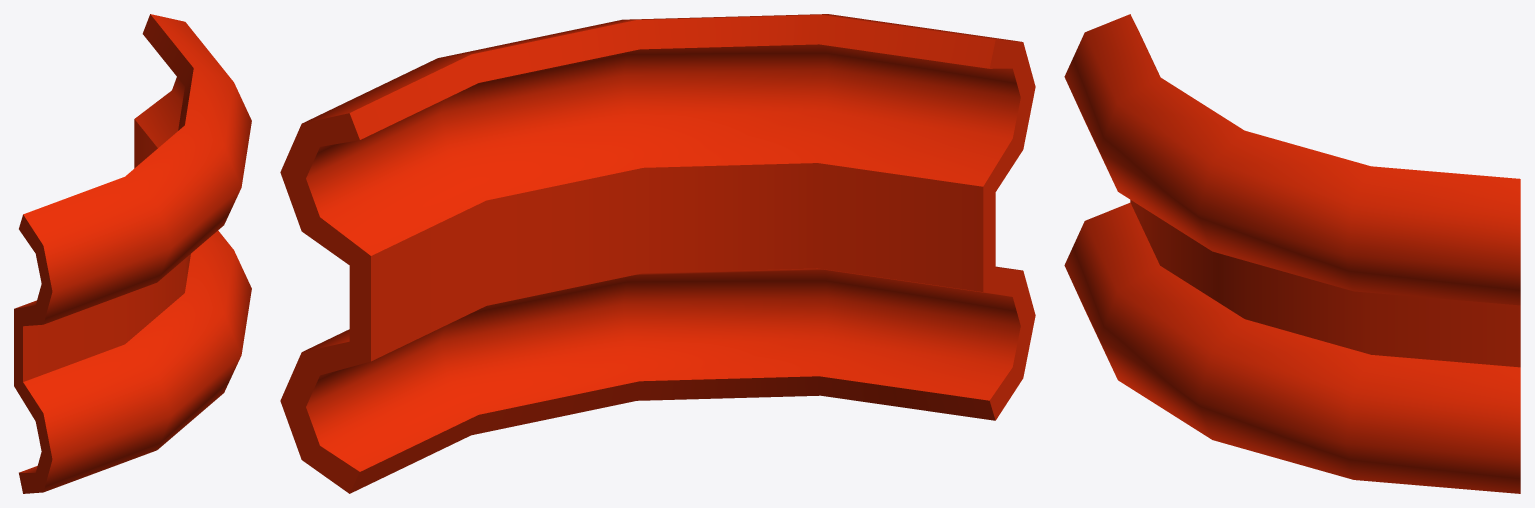
Rendered from Road_Fence-End_left.fbx.
3 views of the same model, side by side, from view 1: azimuth 30°, elevation 25°; view 2: azimuth 150°, elevation 25°; view 3: azimuth 270°, elevation 25° (orthographic). The views are drawn at different scales.
Visible parts, largest first — view 1: Road_Fence-End_left; view 2: Road_Fence-End_left; view 3: Road_Fence-End_left.
Boxes of the visible parts, x1,y1,x2,y2 form: Road_Fence-End_left: (14, 14, 251, 493); Road_Fence-End_left: (280, 14, 1035, 493); Road_Fence-End_left: (1064, 14, 1520, 493).
Bounding box in the file's own units: 56.02 × 42.58 × 56.02.
